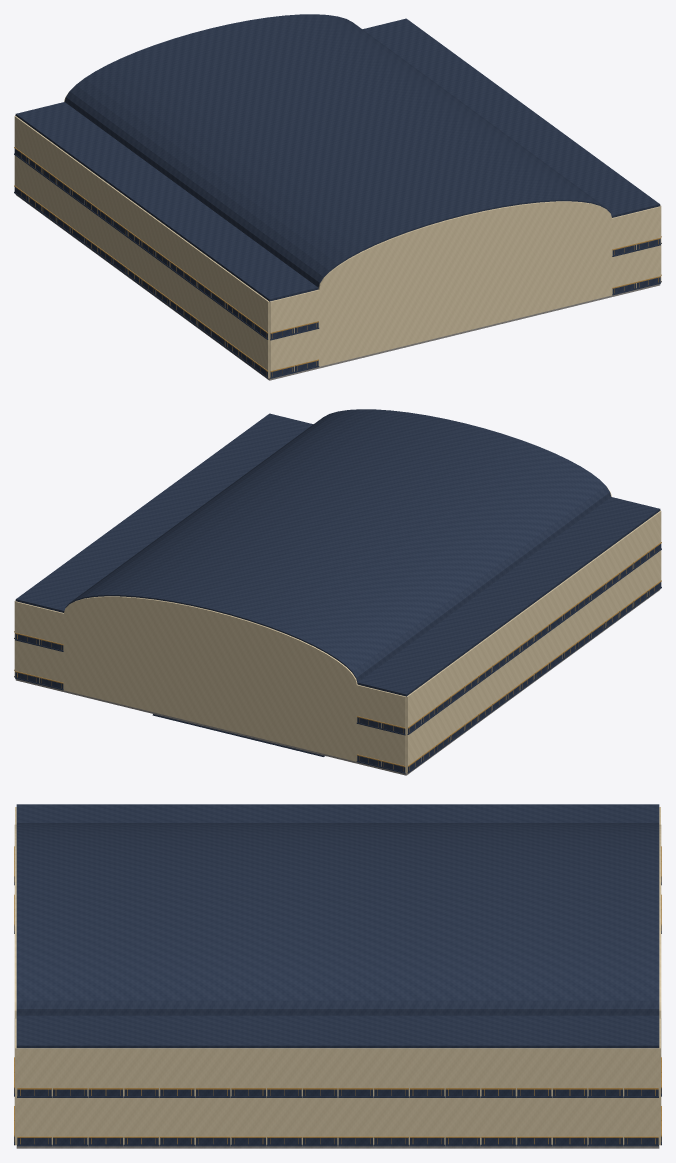
Rendered from GrandTheater_Layout.fbx.
The picture shows the model from 3 angles, top to bottom: view 1: azimuth 30°, elevation 25°; view 2: azimuth 150°, elevation 25°; view 3: azimuth 270°, elevation 25°; orthographic projection. The views are drawn at different scales.
Visible parts, largest first — view 1: GT_Roof_Gable_0001, GT_Roof_Vault4_0001, GT_Roof_Vault4_0012, GT_Roof_Vault4_0014, GT_Roof_Vault4_0013, GT_Roof_Vault4_0017, GT_Roof_Vault4_0005, GT_Roof_Vault4_0011, GT_Roof_Vault4_0018, GT_Roof_Vault4_0015, GT_Roof_Vault4_0006, GT_Roof_Vault4_0004 (+87 smaller); view 2: GT_Roof_Gable_0002, GT_Roof_Vault4_0018, GT_Roof_Vault4_0007, GT_Roof_Vault4_0005, GT_Roof_Vault4_0002, GT_Roof_Vault4_0006, GT_Roof_Vault4_0001, GT_Roof_Vault4_0008, GT_Roof_Vault4_0004, GT_Roof_Vault4_0014, GT_Roof_Vault4_0013, GT_Roof_Vault4_0009 (+87 smaller); view 3: GT_Roof_Vault4_0001, GT_Roof_Vault4_0004, GT_Roof_Vault4_0005, GT_Roof_Vault4_0008, GT_Roof_Vault4_0011, GT_Roof_Vault4_0014, GT_Roof_Vault4_0015, GT_Roof_Vault4_0018, GT_Roof_Vault4_0002, GT_Roof_Vault4_0003, GT_Roof_Vault4_0006, GT_Roof_Vault4_0007 (+80 smaller).
Boxes of the visible parts, <box> form: GT_Roof_Gable_0001: <box>318,201,611,366</box>; GT_Roof_Vault4_0001: <box>304,189,610,288</box>; GT_Roof_Vault4_0012: <box>149,76,449,173</box>; GT_Roof_Vault4_0014: <box>121,55,421,153</box>; GT_Roof_Vault4_0013: <box>135,66,436,163</box>; GT_Roof_Vault4_0017: <box>79,24,379,122</box>; GT_Roof_Vault4_0005: <box>248,148,548,245</box>; GT_Roof_Vault4_0011: <box>163,86,463,184</box>; GT_Roof_Vault4_0018: <box>64,14,365,111</box>; GT_Roof_Vault4_0015: <box>107,45,407,142</box>; GT_Roof_Vault4_0006: <box>234,138,534,235</box>; GT_Roof_Vault4_0004: <box>262,158,562,256</box>; GT_Roof_Gable_0002: <box>64,596,357,761</box>; GT_Roof_Vault4_0018: <box>65,584,371,683</box>; GT_Roof_Vault4_0007: <box>226,471,526,568</box>; GT_Roof_Vault4_0005: <box>254,450,554,548</box>; GT_Roof_Vault4_0002: <box>296,419,596,517</box>; GT_Roof_Vault4_0006: <box>239,461,540,558</box>; GT_Roof_Vault4_0001: <box>310,409,611,506</box>; GT_Roof_Vault4_0008: <box>212,481,512,579</box>; GT_Roof_Vault4_0004: <box>268,440,568,537</box>; GT_Roof_Vault4_0014: <box>127,543,427,640</box>; GT_Roof_Vault4_0013: <box>141,533,441,630</box>; GT_Roof_Vault4_0009: <box>197,491,498,589</box>; GT_Roof_Vault4_0001: <box>16,823,52,1015</box>; GT_Roof_Vault4_0004: <box>123,823,159,1015</box>; GT_Roof_Vault4_0005: <box>159,823,195,1015</box>; GT_Roof_Vault4_0008: <box>266,823,302,1015</box>; GT_Roof_Vault4_0011: <box>373,823,409,1015</box>; GT_Roof_Vault4_0014: <box>480,823,516,1015</box>; GT_Roof_Vault4_0015: <box>516,823,552,1015</box>; GT_Roof_Vault4_0018: <box>623,823,659,1015</box>; GT_Roof_Vault4_0002: <box>52,823,87,1015</box>; GT_Roof_Vault4_0003: <box>88,823,123,1015</box>; GT_Roof_Vault4_0006: <box>195,823,230,1015</box>; GT_Roof_Vault4_0007: <box>231,823,266,1015</box>.
Bounding box in the file's own units: 64.61 × 23.05 × 72.61.
